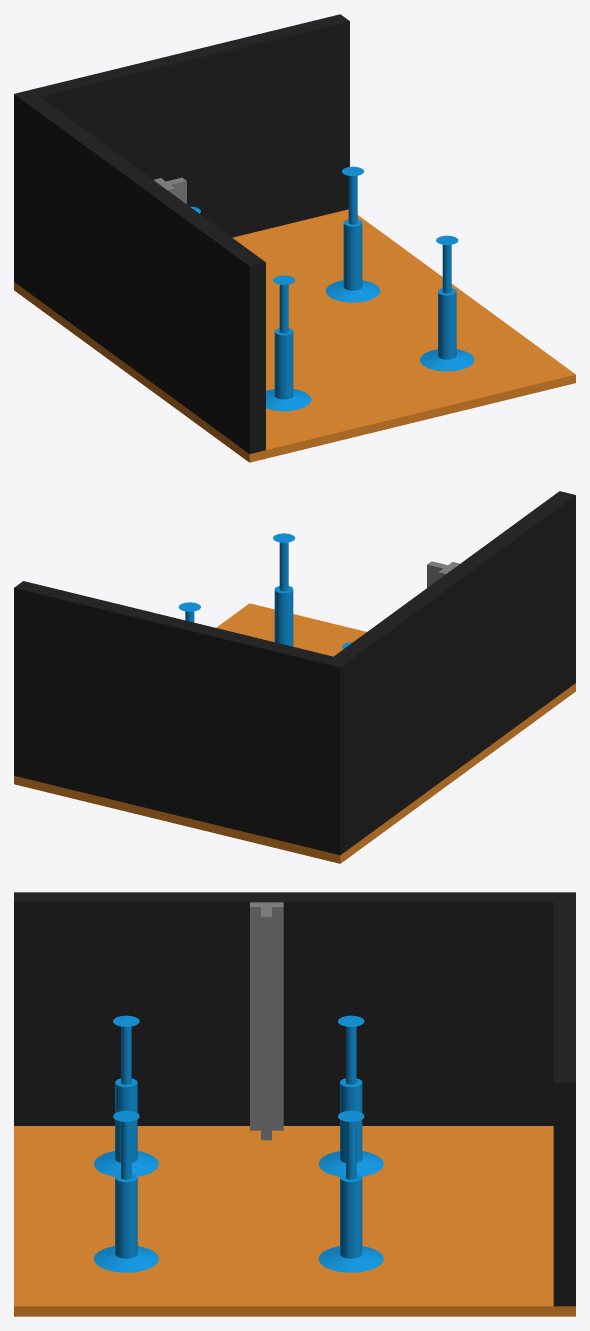
File: bot.gltf
3 views of the same model, one above another, from view 1: azimuth 30°, elevation 25°; view 2: azimuth 150°, elevation 25°; view 3: azimuth 270°, elevation 25° (orthographic). The views are drawn at different scales.
Parts seen in each view (by area): view 1: shaft_bot, plane, piston.001, piston.002, piston.003; view 2: shaft_bot, plane, piston.002; view 3: shaft_bot, plane, Cube, piston.001, piston.002, piston, piston.003.
Boxes of the visible parts, x1=… form: shaft_bot: x1=14, y1=14, x2=349, y2=453; plane: x1=14, y1=209, x2=575, y2=462; piston.001: x1=325, y1=166, x2=380, y2=302; piston.002: x1=420, y1=235, x2=474, y2=371; piston.003: x1=266, y1=275, x2=311, y2=411; shaft_bot: x1=14, y1=491, x2=575, y2=855; plane: x1=14, y1=603, x2=575, y2=863; piston.002: x1=273, y1=533, x2=296, y2=647; shaft_bot: x1=14, y1=892, x2=575, y2=1306; plane: x1=14, y1=1126, x2=575, y2=1316; Cube: x1=250, y1=902, x2=283, y2=1140; piston.001: x1=318, y1=1110, x2=383, y2=1272; piston.002: x1=94, y1=1110, x2=158, y2=1272; piston: x1=318, y1=1015, x2=383, y2=1176; piston.003: x1=94, y1=1015, x2=158, y2=1176.
Size of the model in its own units: 4 by 2.3 by 5.
